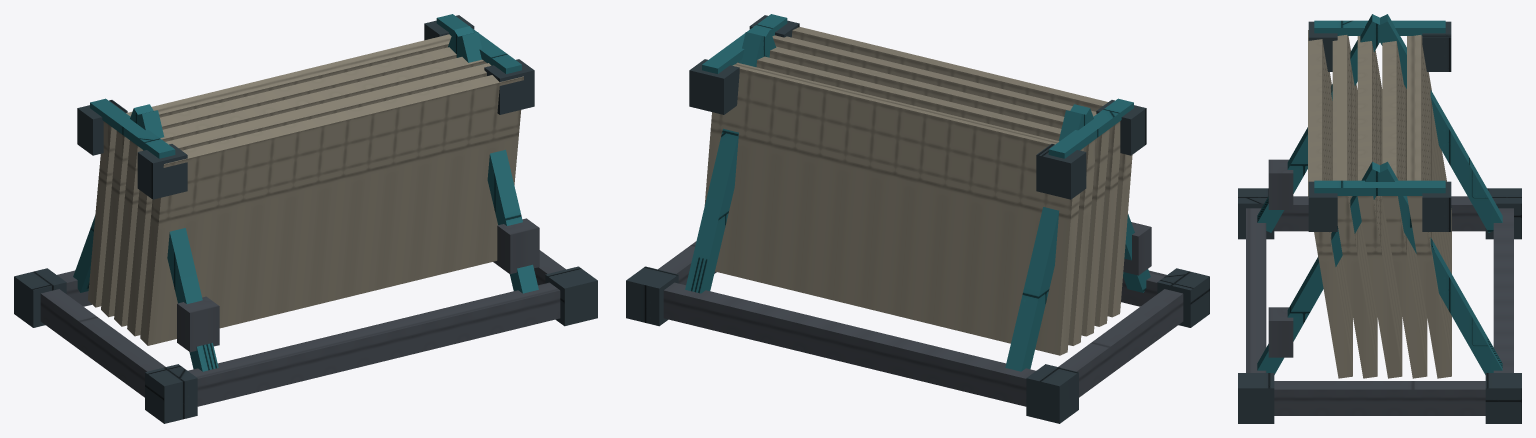
Rendered from cargo-habitat-panel-pack_lod2.glb.
The picture shows the model from 3 angles, left to right: view 1: azimuth 30°, elevation 25°; view 2: azimuth 150°, elevation 25°; view 3: azimuth 270°, elevation 25°; orthographic projection. The views are drawn at different scales.
Parts seen in each view (by area): view 1: LOD2_Ceramic, LOD2_Mechanical, LOD2_Armor, LOD2_Livery; view 2: LOD2_Ceramic, LOD2_Mechanical, LOD2_Livery, LOD2_Armor; view 3: LOD2_Ceramic, LOD2_Mechanical, LOD2_Livery, LOD2_Armor.
Boxes of the visible parts, <box> form: LOD2_Ceramic: <box>88,34,523,345</box>; LOD2_Mechanical: <box>40,218,565,406</box>; LOD2_Armor: <box>14,15,597,423</box>; LOD2_Livery: <box>73,14,538,371</box>; LOD2_Ceramic: <box>704,27,1132,355</box>; LOD2_Mechanical: <box>658,222,1183,406</box>; LOD2_Livery: <box>685,14,1150,371</box>; LOD2_Armor: <box>626,15,1209,423</box>; LOD2_Ceramic: <box>1308,30,1451,378</box>; LOD2_Mechanical: <box>1246,159,1513,415</box>; LOD2_Livery: <box>1257,14,1502,374</box>; LOD2_Armor: <box>1238,21,1521,423</box>.
Size of the model in its own units: 3.25 by 1.76 by 1.95.
4 materials, 4 textured.
